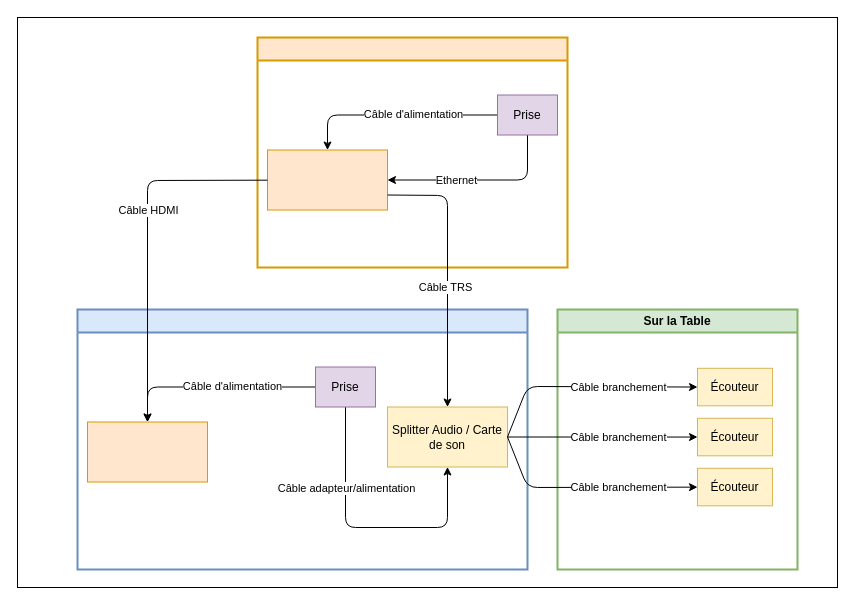
The diagram is 855 pixels wide and 605 high, and some of its shapes have lost their labels. The box of each missing label's shape, as (x1, y1, x2, y2) in pixels:
Dans le panneau de contrôle: (76, 308, 528, 570)
Derrière le rideau: (256, 36, 568, 268)
Ordinateur: (266, 149, 388, 210)
Écran: (86, 421, 208, 482)
